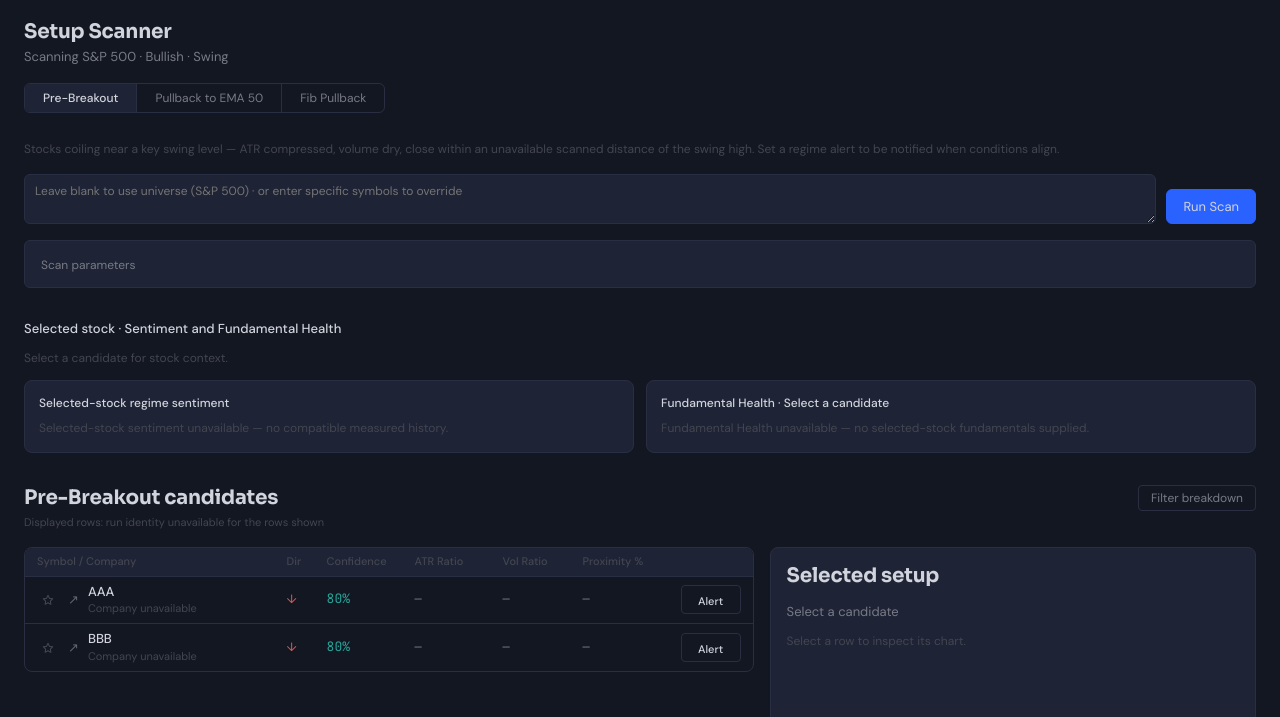
Scenario: chart failure and empty candles remain local while table and evidence stay available
Click the button with aria-label "Select AAA". click: (142, 608)
box: [25,576,753,624]
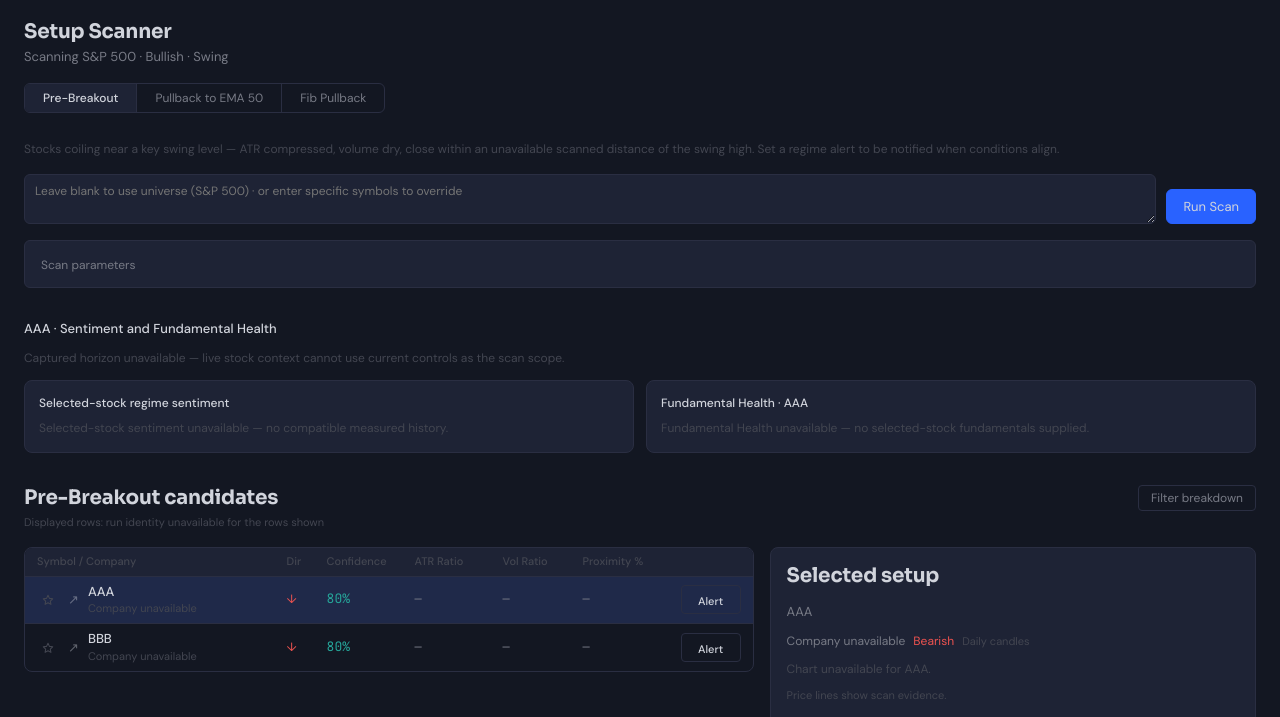
Check: the text "Chart unavailable for AAA." is shown, box [787,661,931,677]
Click the button with aria-label "Select BBB". click: (142, 656)
box: [25,624,753,671]
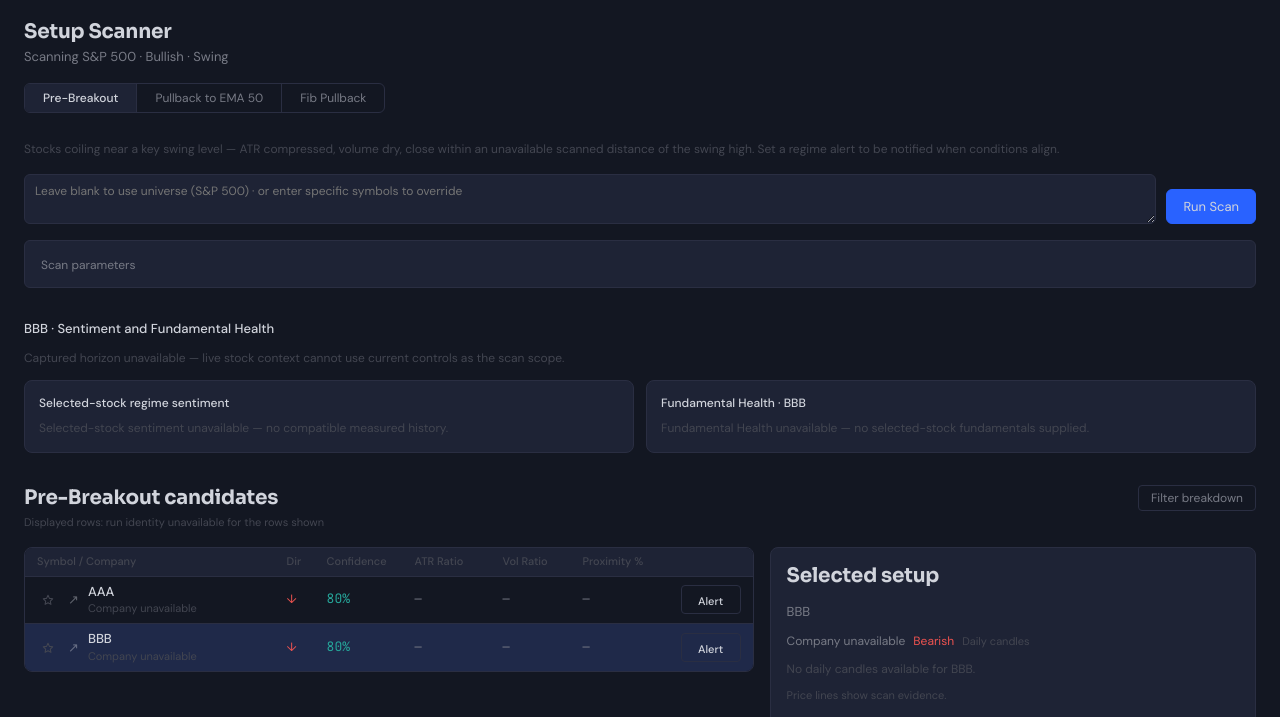
Check: the button with aria-label "Select AAA" is shown, box [25,576,753,624]
Check: the text "No daily candles available for BBB." is shown, box [787,661,975,677]
